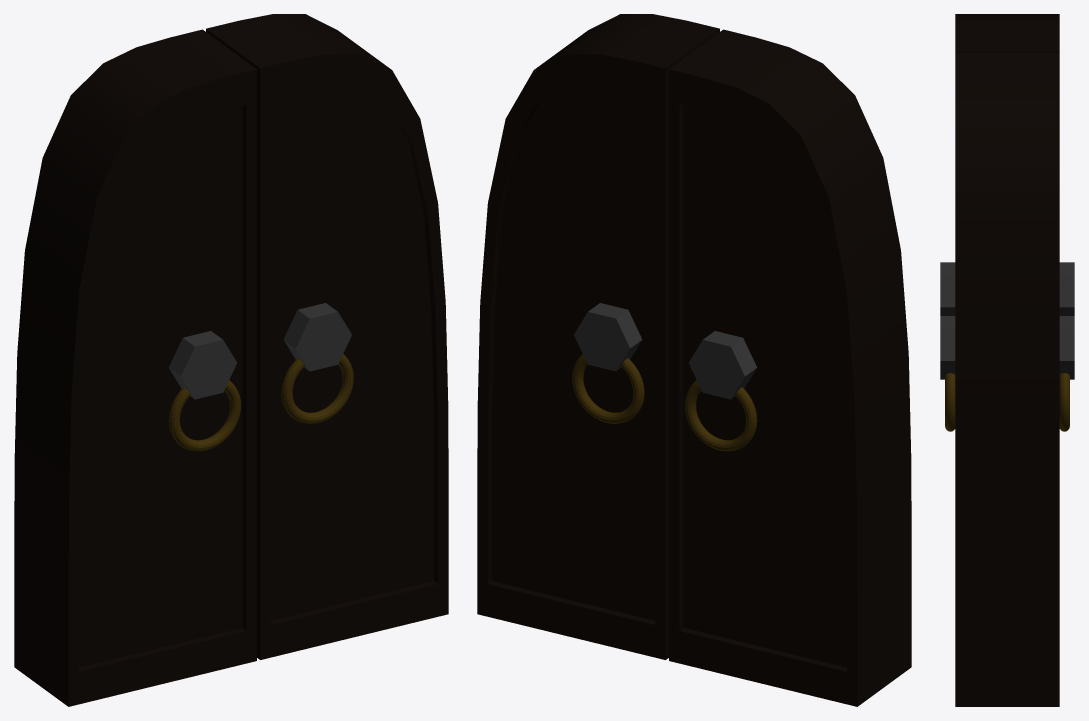
Rendered from Porta.obj.
The picture shows the model from 3 angles, left to right: view 1: azimuth 30°, elevation 25°; view 2: azimuth 150°, elevation 25°; view 3: azimuth 270°, elevation 25°; orthographic projection. The views are drawn at different scales.
Parts seen in each view (by area): view 1: Cube, Cylinder, Torus; view 2: Cube, Cylinder, Torus; view 3: Cube, Cylinder, Torus.
Part boxes in pixels (box(x1,y1,x2,y2)): Cube: box(14, 14, 448, 706); Cylinder: box(168, 303, 351, 399); Torus: box(168, 354, 353, 451); Cube: box(477, 14, 911, 706); Cylinder: box(574, 303, 757, 399); Torus: box(572, 354, 757, 451); Cube: box(955, 14, 1059, 706); Cylinder: box(940, 262, 1074, 379); Torus: box(945, 373, 1069, 431).
Bounding box in the file's own units: 4.04 × 6 × 1.29.
